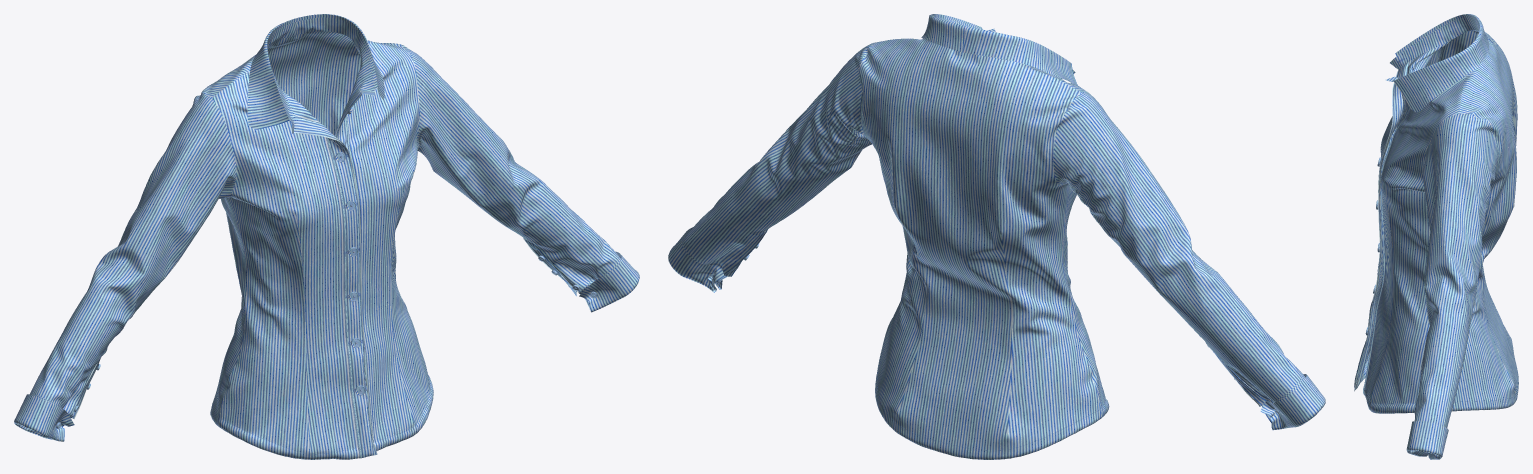
File: women2.glb
3 renders of one model, left to right at view 1: azimuth 30°, elevation 25°; view 2: azimuth 150°, elevation 25°; view 3: azimuth 270°, elevation 25°, orthographic. The views are drawn at different scales.
Parts seen in each view (by area): view 1: Cloth, Node #2; view 2: Cloth; view 3: Cloth.
Boxes of the visible parts, left/top/right/bottom form: Cloth: left=14, top=14, right=639, bottom=459; Node #2: left=56, top=106, right=596, bottom=429; Cloth: left=668, top=14, right=1325, bottom=459; Cloth: left=1354, top=14, right=1518, bottom=459.
Bounding box in the file's own units: 107 × 64.7 × 26.54.
Materials: 3 (3 with a texture image).
